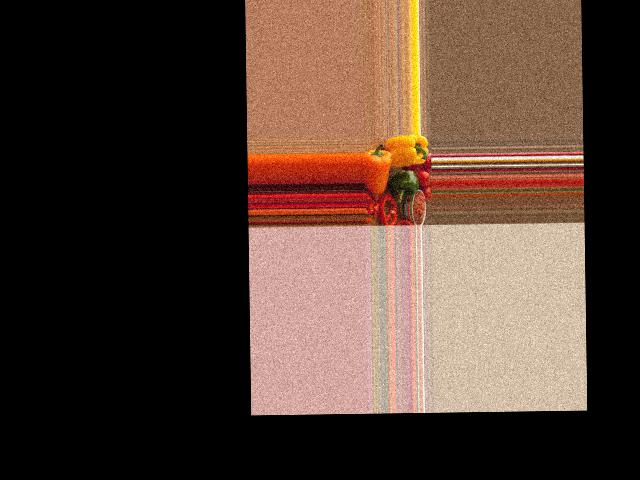bell_pepper: (392, 135, 428, 167)
